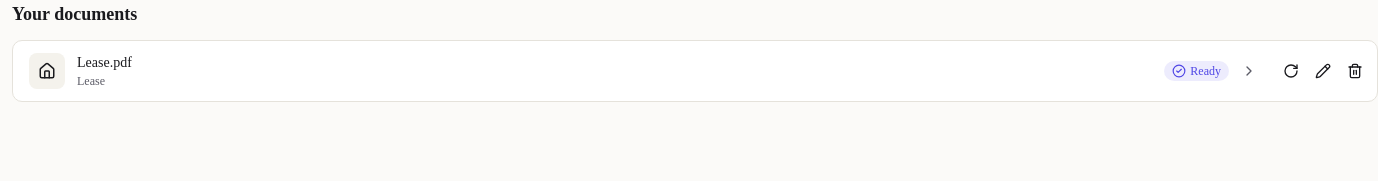
DocumentList › editing › opens a form with the current name and kind, and Save waits for a change
Step 1. Click the button named "Edit Lease.pdf" → (1323, 71), box [1309,57,1337,85]
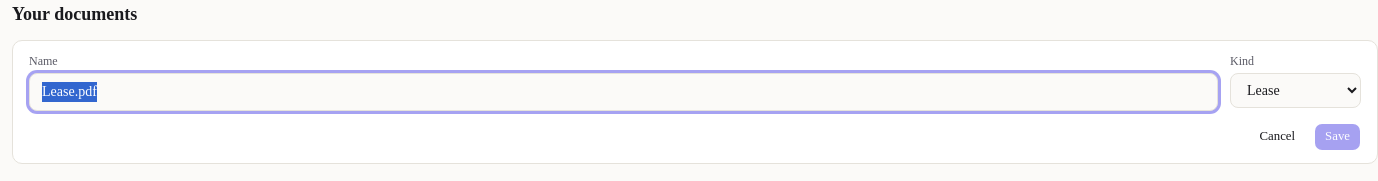
Check: the field labelled "Name" holds "Lease.pdf", box [29,73,1218,111]
Check: the dropdown labelled "Kind" shows "Lease", box [1230,73,1361,108]
Check: the button "Save" is disabled, box [1314,123,1361,151]
